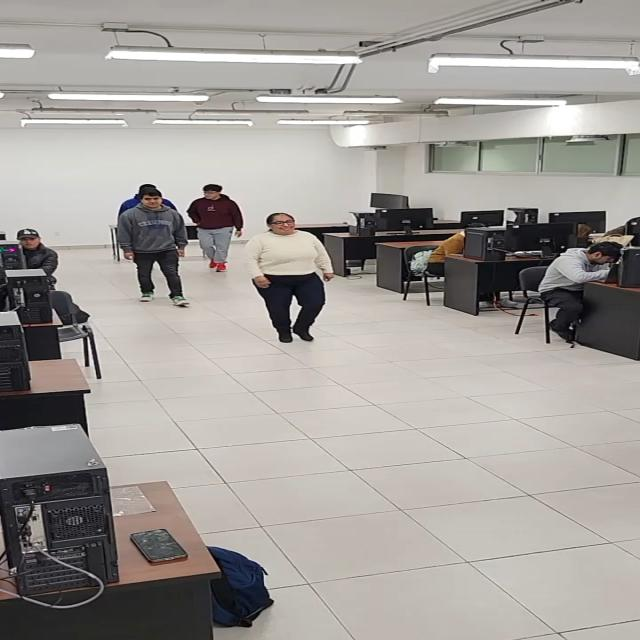Persona: (243, 212, 334, 344), (117, 188, 192, 306), (188, 183, 245, 274)
